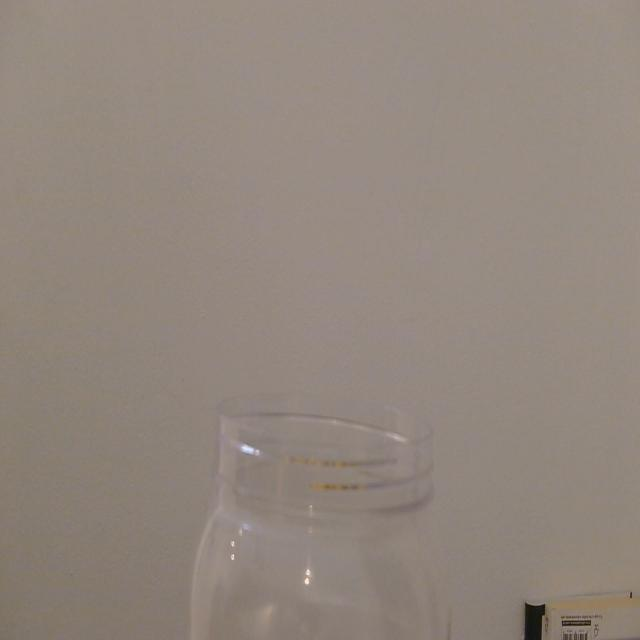missing_cap: (192, 397, 466, 542)
